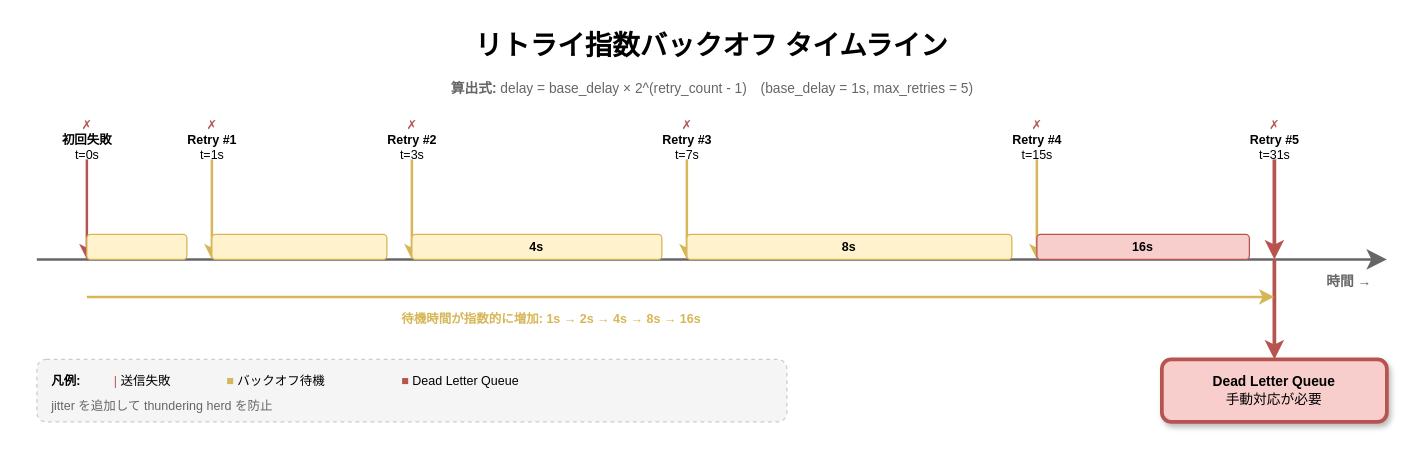
This 1424x454 diagram has some shape labels left out. Here are the shapes that lost their labels. From the top down, the centre of each, then its label:
the point at 136,246: 1s
the point at 299,246: 2s
